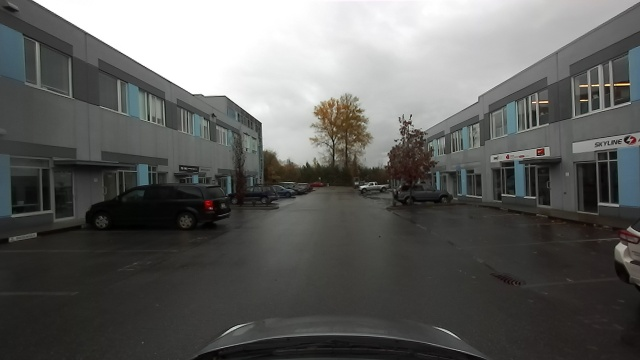car: (86, 183, 234, 230), (391, 185, 453, 203), (246, 184, 277, 201), (357, 180, 388, 196), (276, 186, 295, 199)
